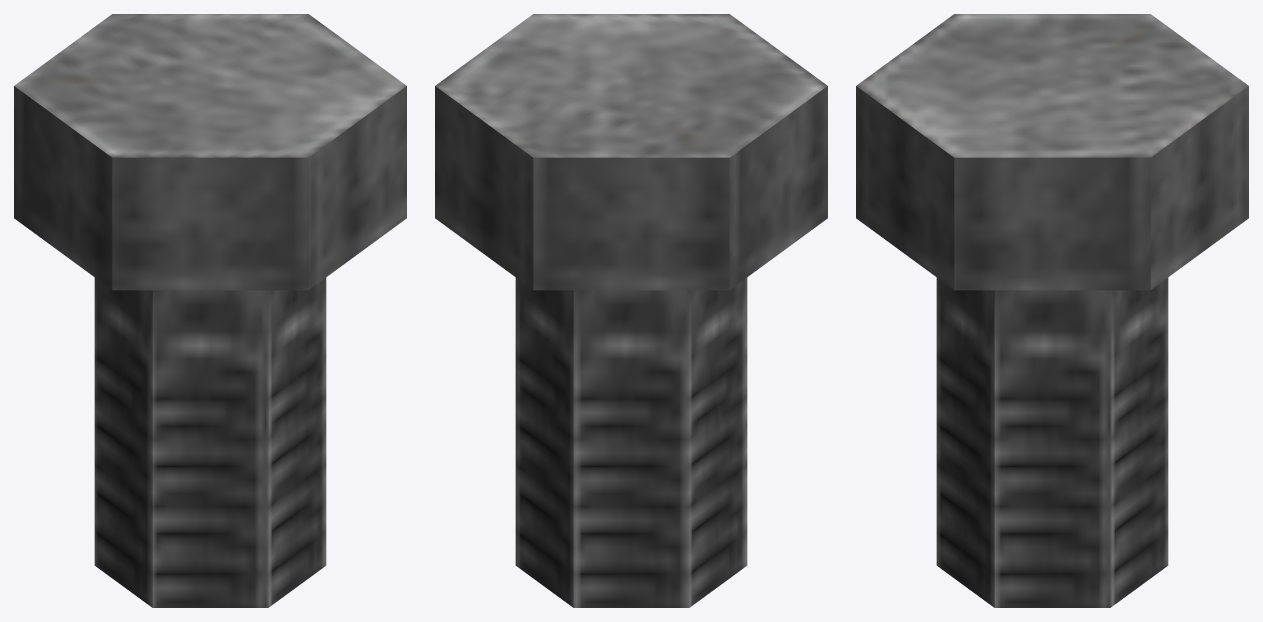
File: Tiny_Bolt.fbx
3 views of the same model, side by side, from view 1: azimuth 30°, elevation 25°; view 2: azimuth 150°, elevation 25°; view 3: azimuth 270°, elevation 25° (orthographic).
Parts seen in each view (by area): view 1: Cylinder.001; view 2: Cylinder.001; view 3: Cylinder.001.
Part boxes in pixels (box(x1,y1,x2,y2)): Cylinder.001: box(14, 14, 406, 607); Cylinder.001: box(435, 14, 827, 607); Cylinder.001: box(856, 14, 1248, 607).
Bounding box in the file's own units: 87.38 × 136 × 101.
Materials: 1 (1 with a texture image).
